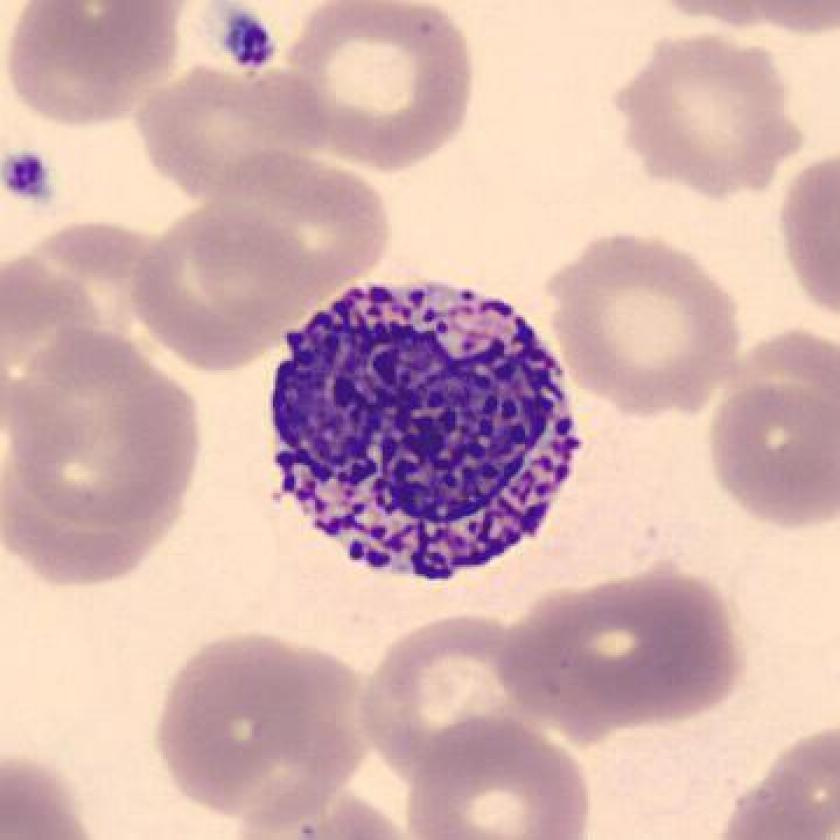basophil: (251, 265, 587, 589)
